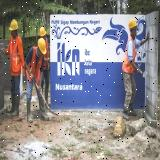Helmet: (38, 37, 47, 54), (9, 19, 18, 31), (129, 19, 138, 30), (40, 26, 46, 37)
Vest: (26, 46, 42, 83), (122, 34, 136, 74), (9, 36, 22, 75)
